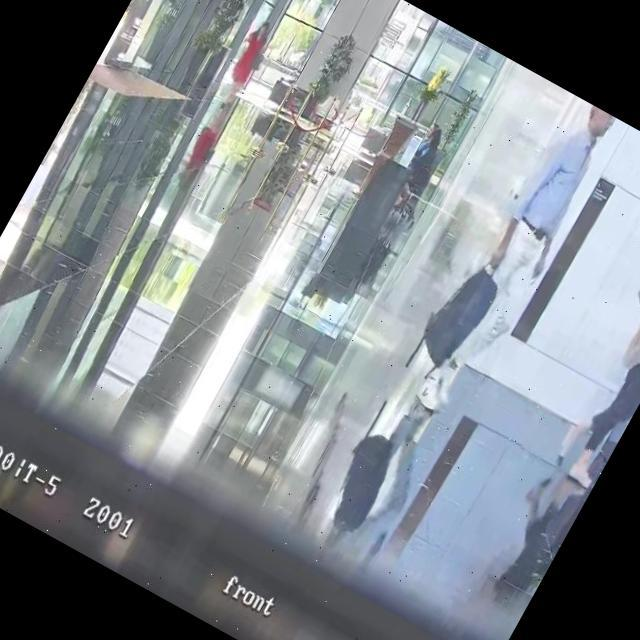person: (439, 97, 624, 373), (484, 98, 624, 294), (554, 179, 640, 492), (213, 17, 276, 108), (387, 124, 448, 214), (414, 121, 442, 160)
